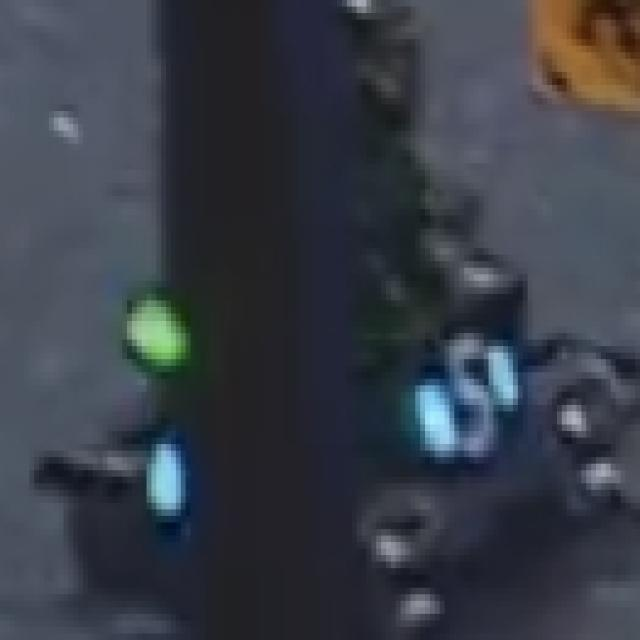B5: (410, 320, 528, 464)
